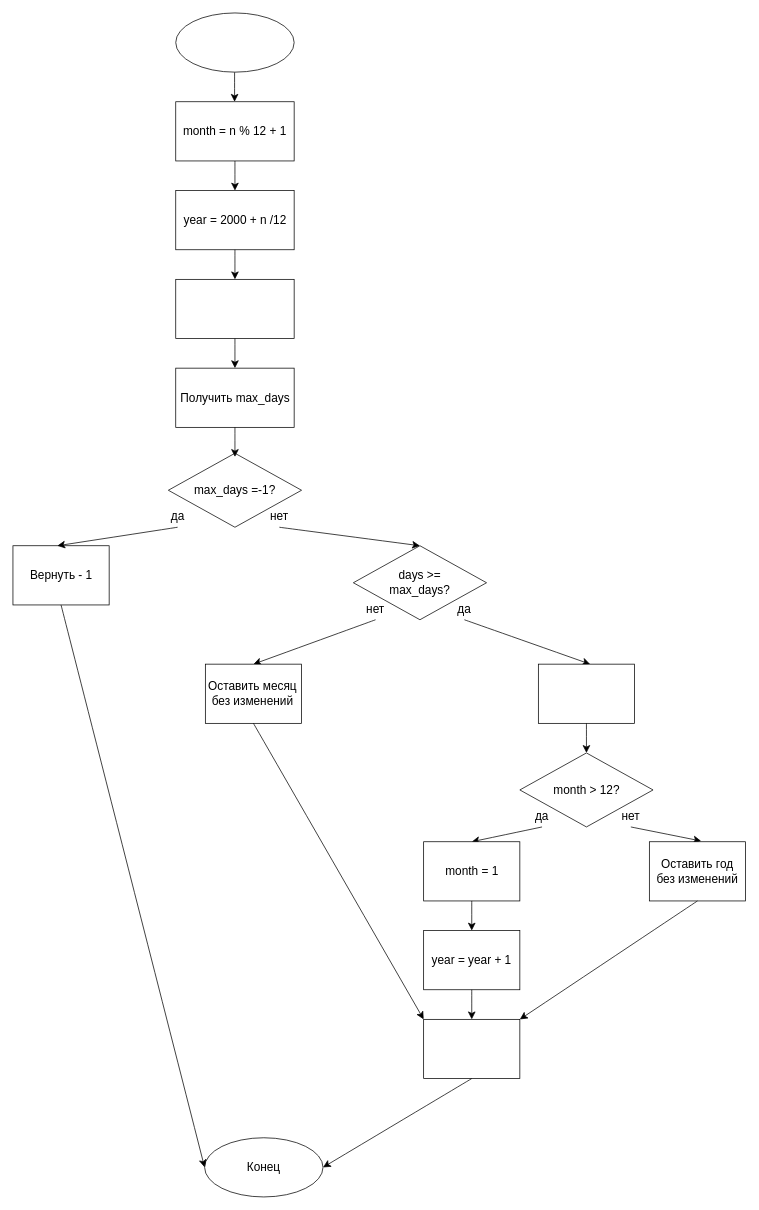
The diagram is 759 pixels wide and 1210 high, and some of its shapes have lost their labels. Each missing label, with the centre of its shape:
"month = month + 1" goes at pixel 586 693.
"Вернуть month" goes at pixel 471 1049.
"Вызов daysInMonth(month, year)" goes at pixel 234 309.
"Начало" goes at pixel 234 42.
